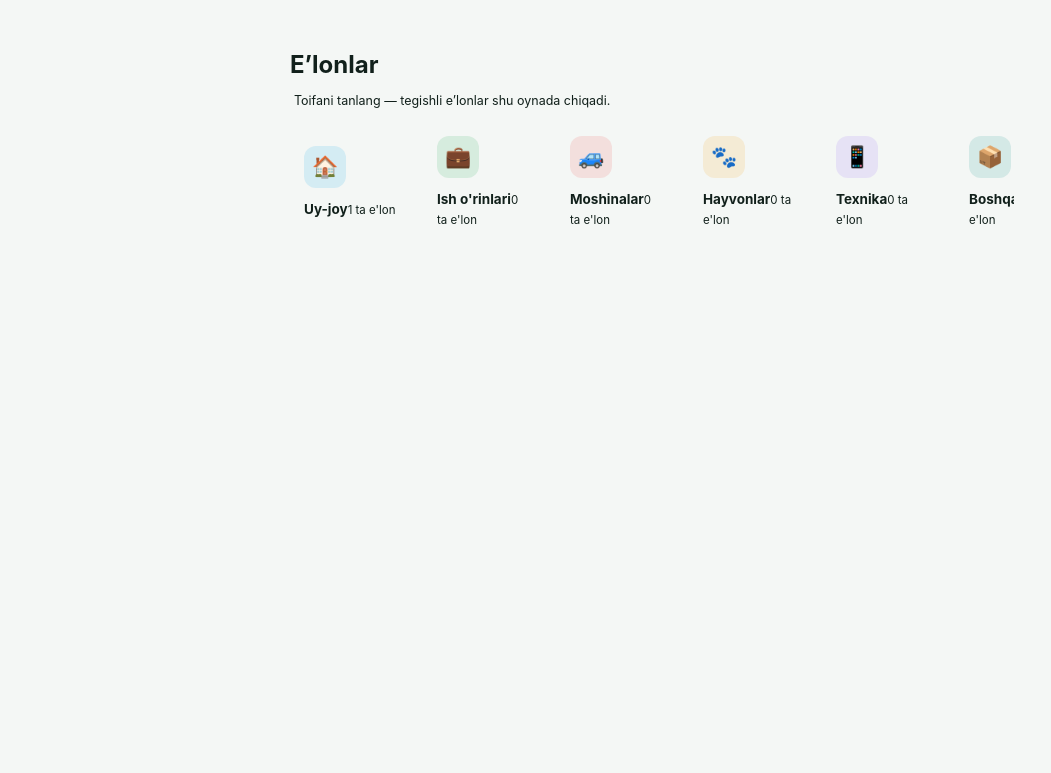
Test: v1656 public E'lonlar › shows the first photo on the compact card and keeps all media in the opened detail
The width and height of the screenshot is (1051, 773).
Click the button "🏠 Uy-joy1 ta e'lon" at (351, 182), box [290,122,412,242]
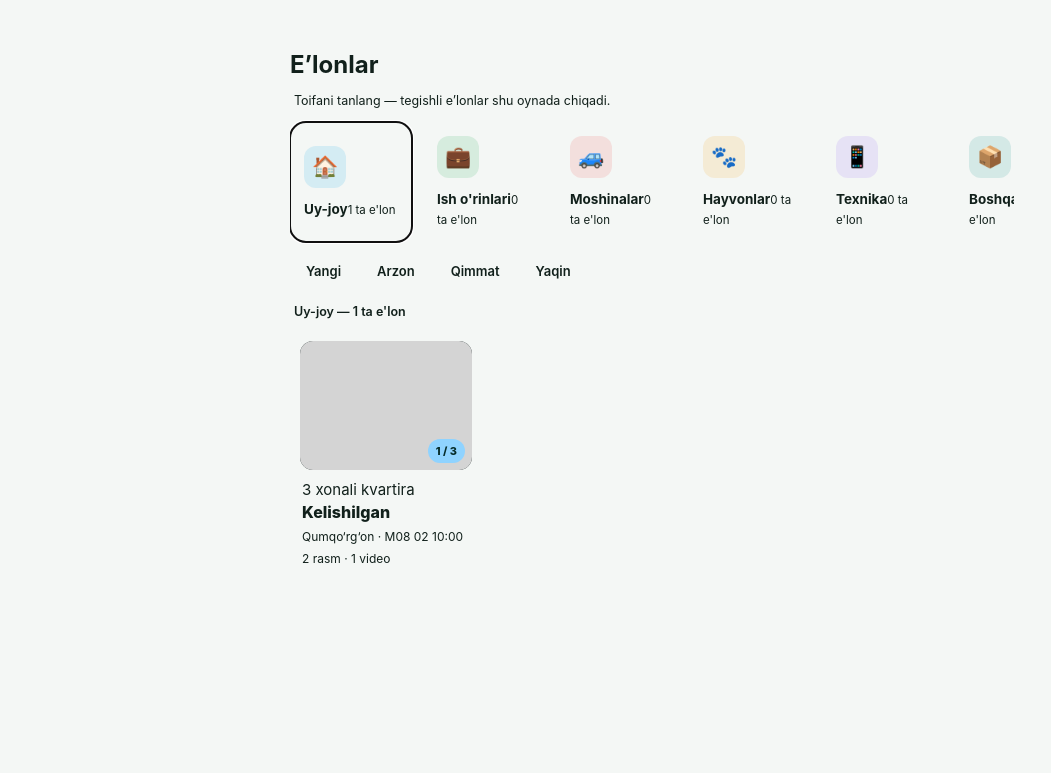
Expected: the element with alt text "3 xonali kvartira — asosiy rasm" is shown, [300,341,472,470]
Expected: the text "1 / 3" is shown, [428,439,465,463]
Expected: the text "2 rasm · 1 video" is shown, [302,551,390,566]
Click the button "3 xonali kvartira" at (386, 454), box [290,331,482,578]
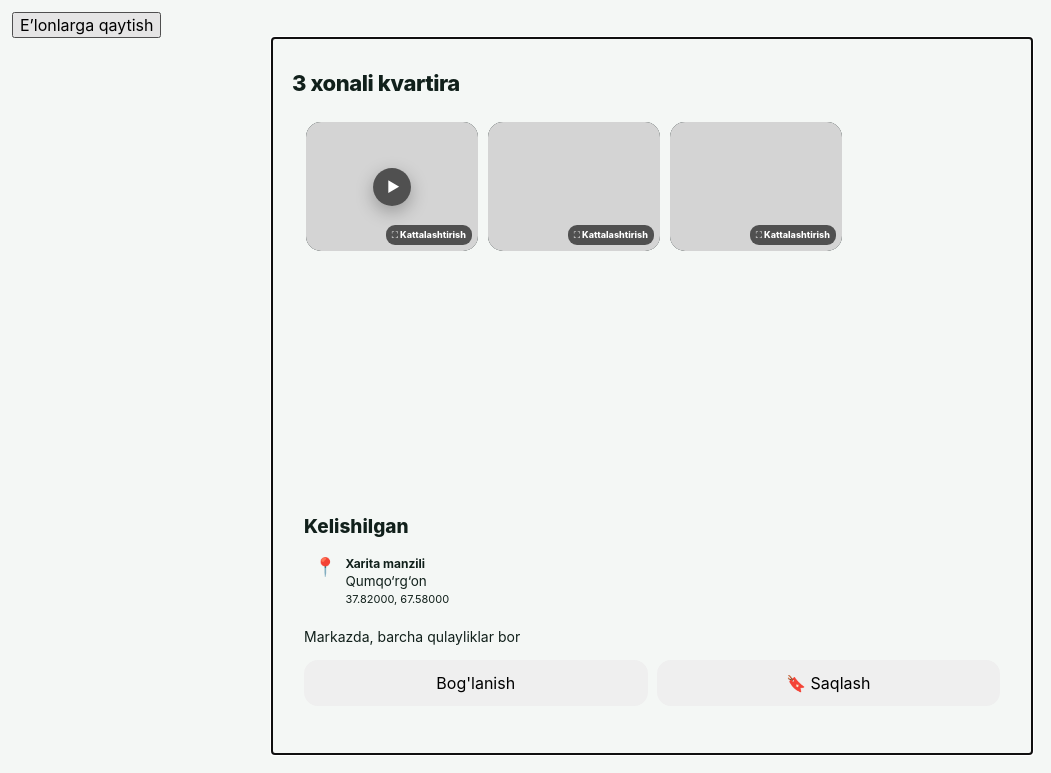
Expected: the text "Kelishilgan" is shown, [304,515,409,538]
Expected: the element labelled "Xarita manzili" shows "Qumqo‘rg‘on", [346,573,427,589]
Expected: the element labelled "Xarita manzili" shows "37.82000, 67.58000", [314,556,449,606]
